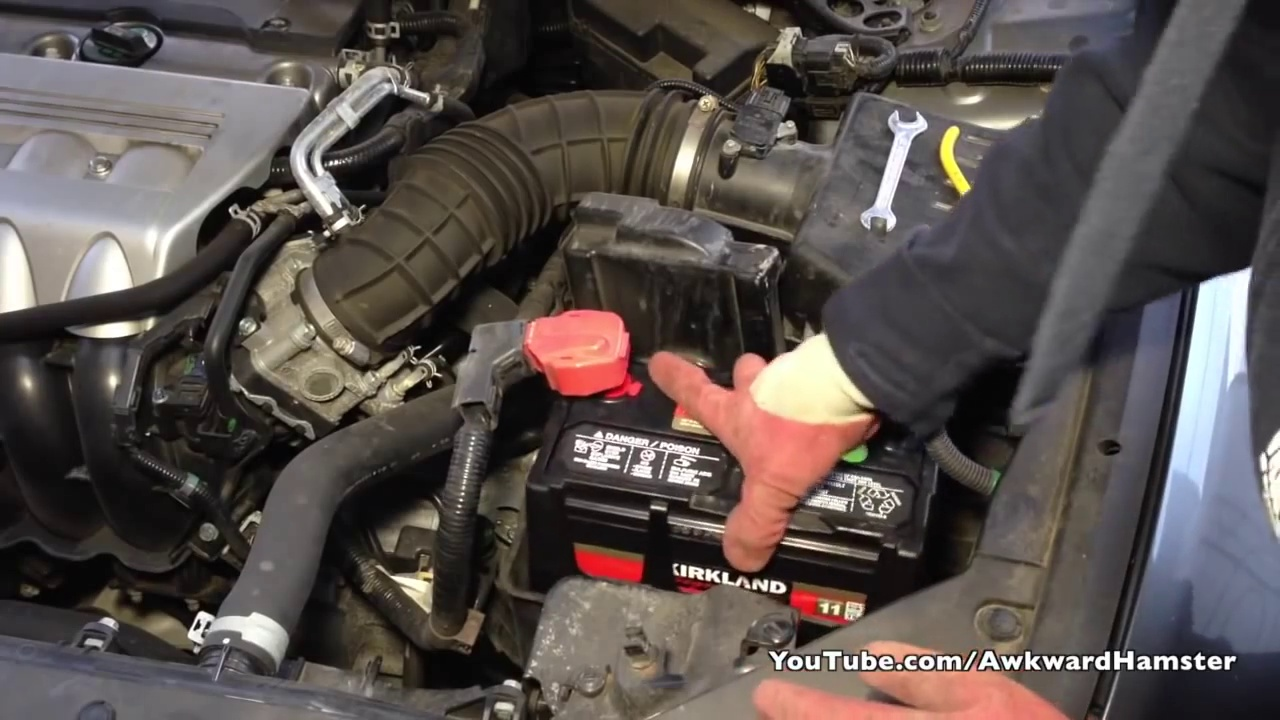battery: (525, 328, 930, 585)
pos_connected: (439, 310, 644, 413)
